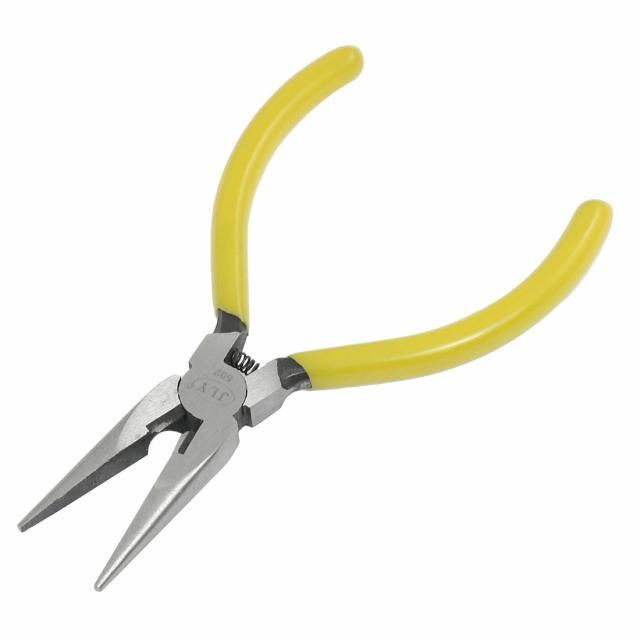pliers: (10, 39, 618, 596)
